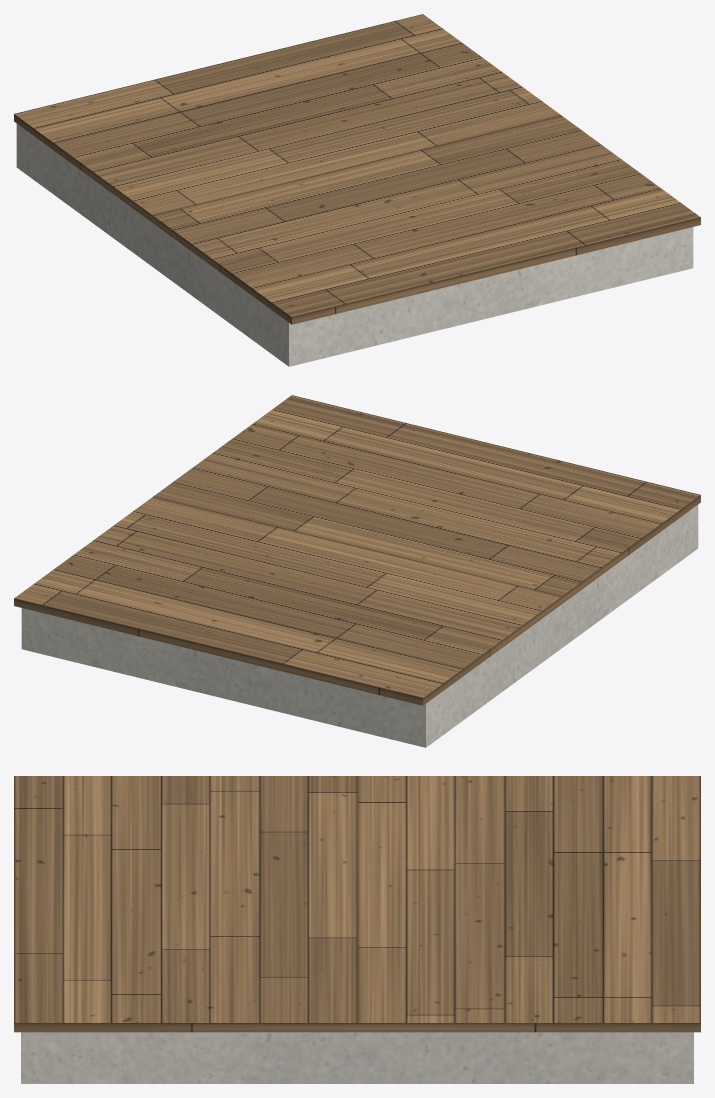
File: floor_wood_c_e30_0_0_0.glb
The picture shows the model from 3 angles, top to bottom: view 1: azimuth 30°, elevation 25°; view 2: azimuth 150°, elevation 25°; view 3: azimuth 270°, elevation 25°; orthographic projection. The views are drawn at different scales.
Visible parts, largest first — view 1: floor_wood_c_e30_0_0_0_attic, floor_wood_c_e30_0_0_0_plaster; view 2: floor_wood_c_e30_0_0_0_attic, floor_wood_c_e30_0_0_0_plaster; view 3: floor_wood_c_e30_0_0_0_attic, floor_wood_c_e30_0_0_0_plaster.
Boxes of the visible parts, box(x1,y1,x2,y2) form: floor_wood_c_e30_0_0_0_attic: box(14, 14, 700, 324); floor_wood_c_e30_0_0_0_plaster: box(16, 124, 693, 366); floor_wood_c_e30_0_0_0_attic: box(14, 395, 700, 705); floor_wood_c_e30_0_0_0_plaster: box(21, 505, 698, 747); floor_wood_c_e30_0_0_0_attic: box(14, 776, 700, 1032); floor_wood_c_e30_0_0_0_plaster: box(21, 1032, 693, 1083).
Size of the model in its own units: 1.7 by 0.205 by 2.
Materials: 2 (2 with a texture image).
